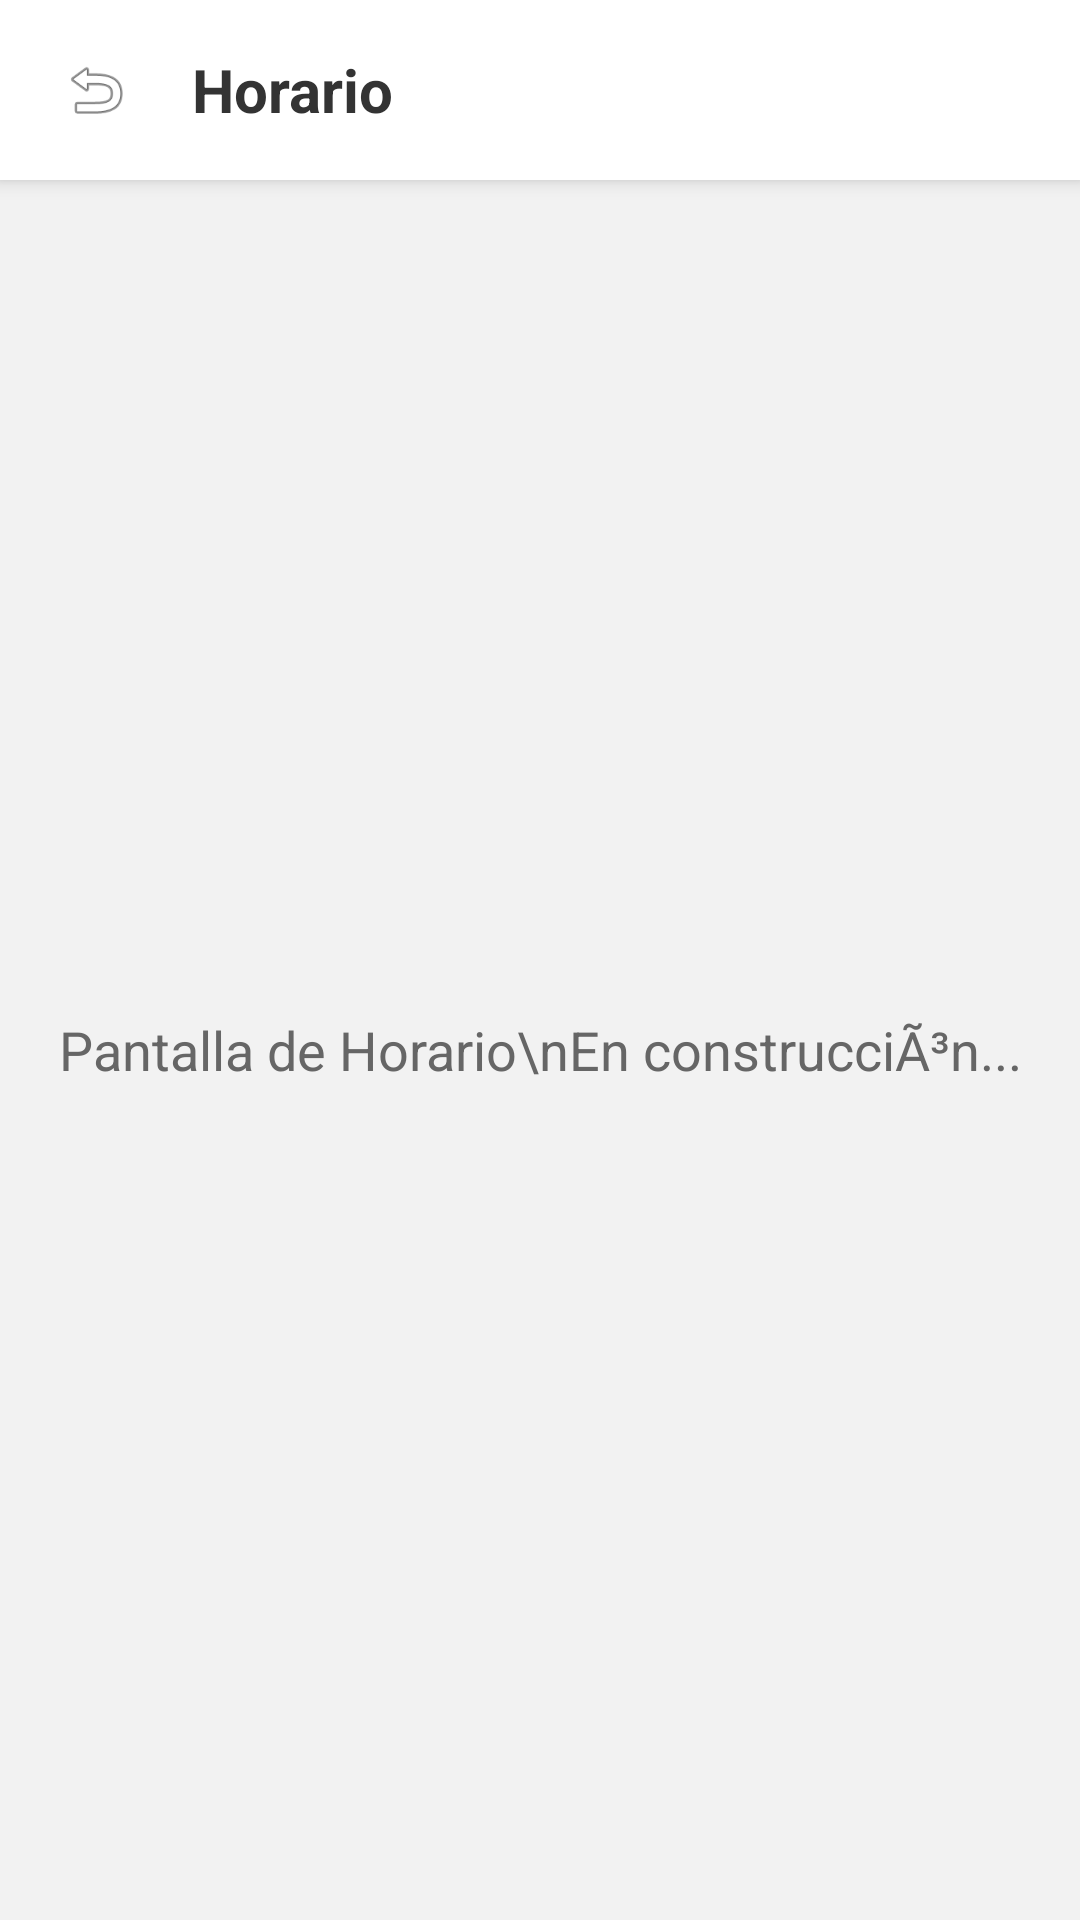

Named icons in this screenshot (1080px×1920px) and their centers, [x,y]:
revert: [97,90]
